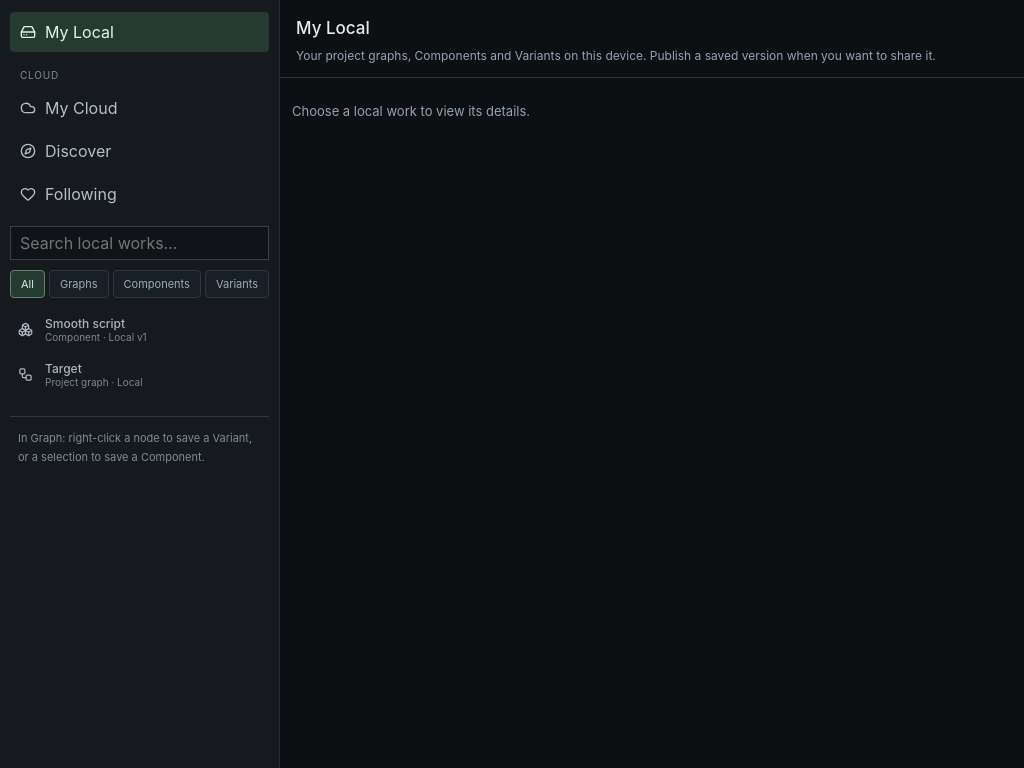
Test: a pending draft cannot replace graph details after selecting a graph
What coordinates should you click on to do the following:
click the button "Smooth script Component · Local v1"
I would click on:
 (140, 330)
Its box is [10,308,269,351].
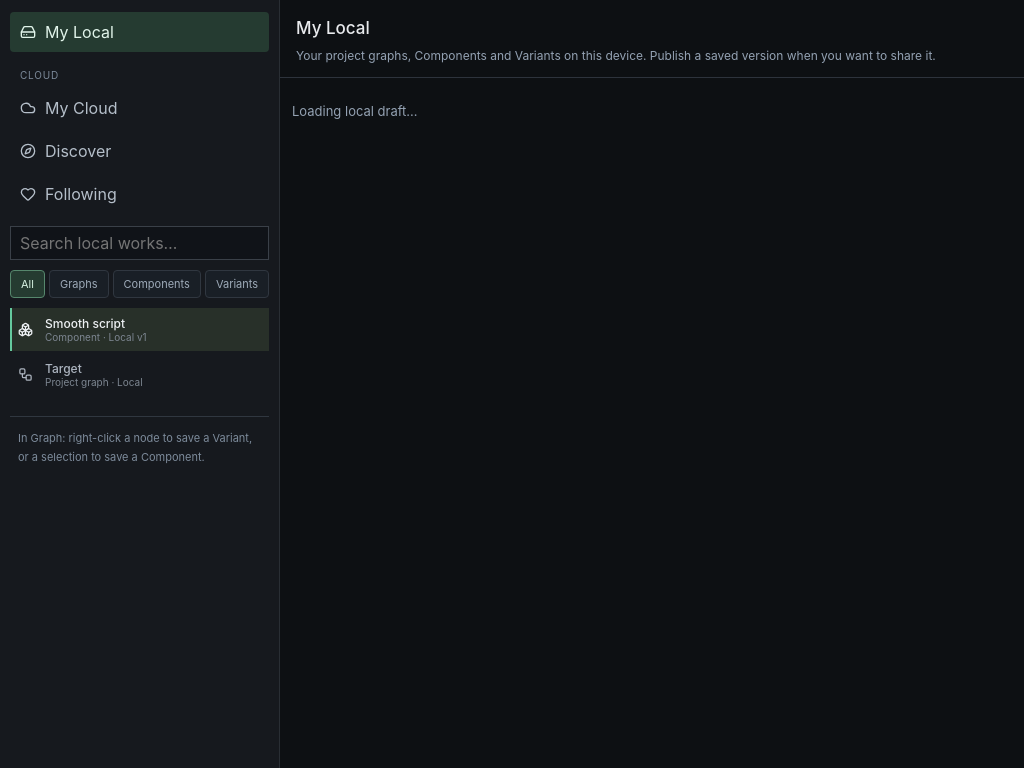
What coordinates should you click on to do the following:
click the button "Target Project graph · Local"
I would click on:
 (140, 374)
Its box is [10,353,269,396].
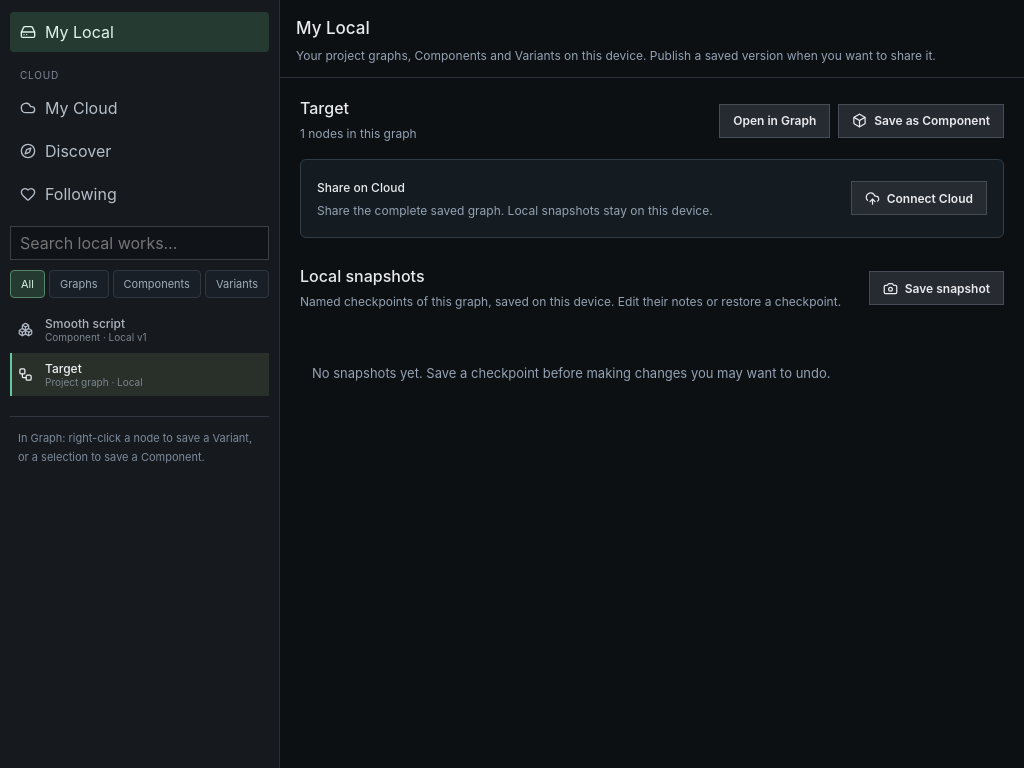
Now the button "Open in Graph" is shown, box [719,104,830,138]
